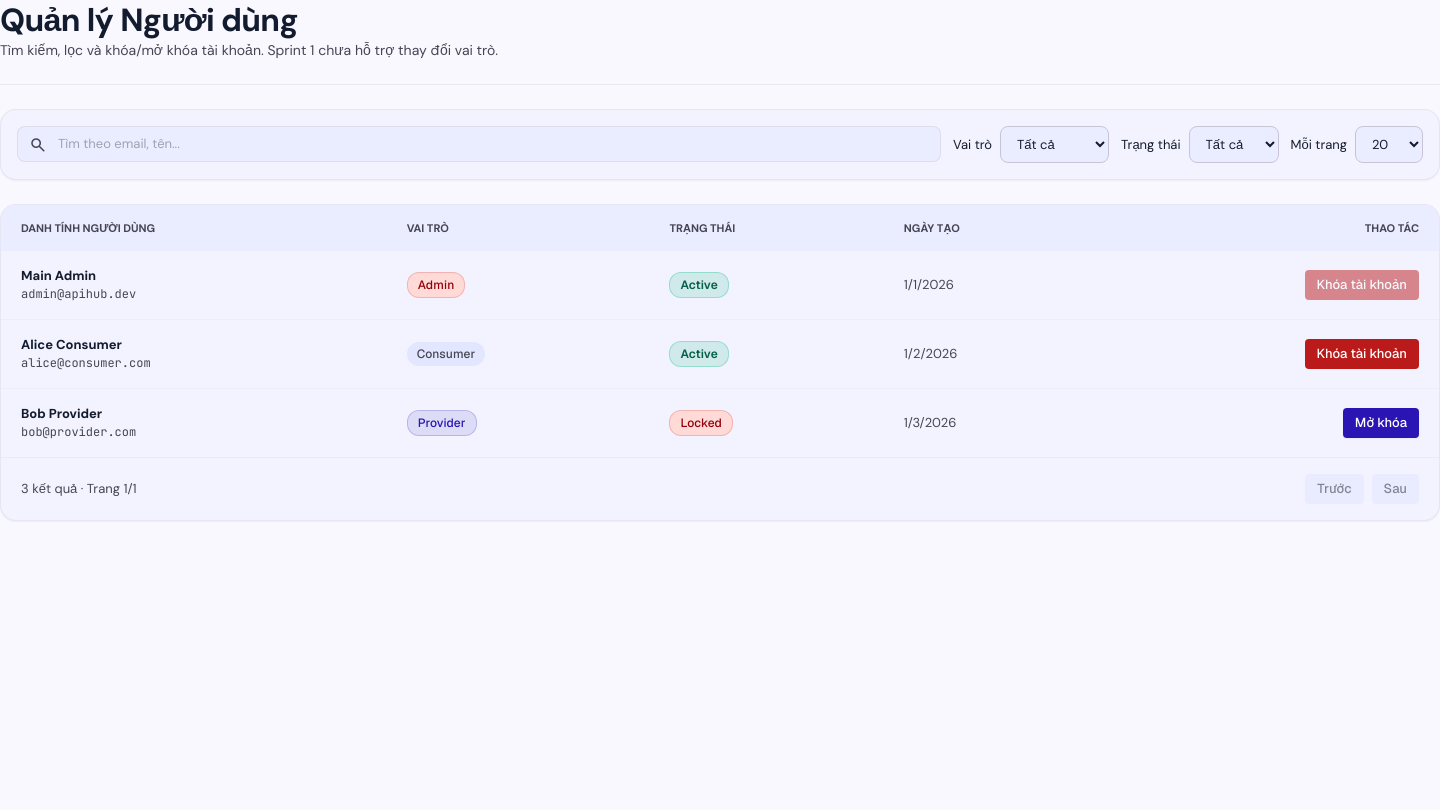
Scenario: UserManagementPage unit tests › admin PATCH lỗi hiển thị thông báo lỗi trung thực và không báo thành công
Check: the text "Alice Consumer" is shown, box [21,336,122,353]
Click the button "Khóa tài khoản" in the row of "Alice Consumer" at coordinates (1362, 354), box [1304,339,1419,369]
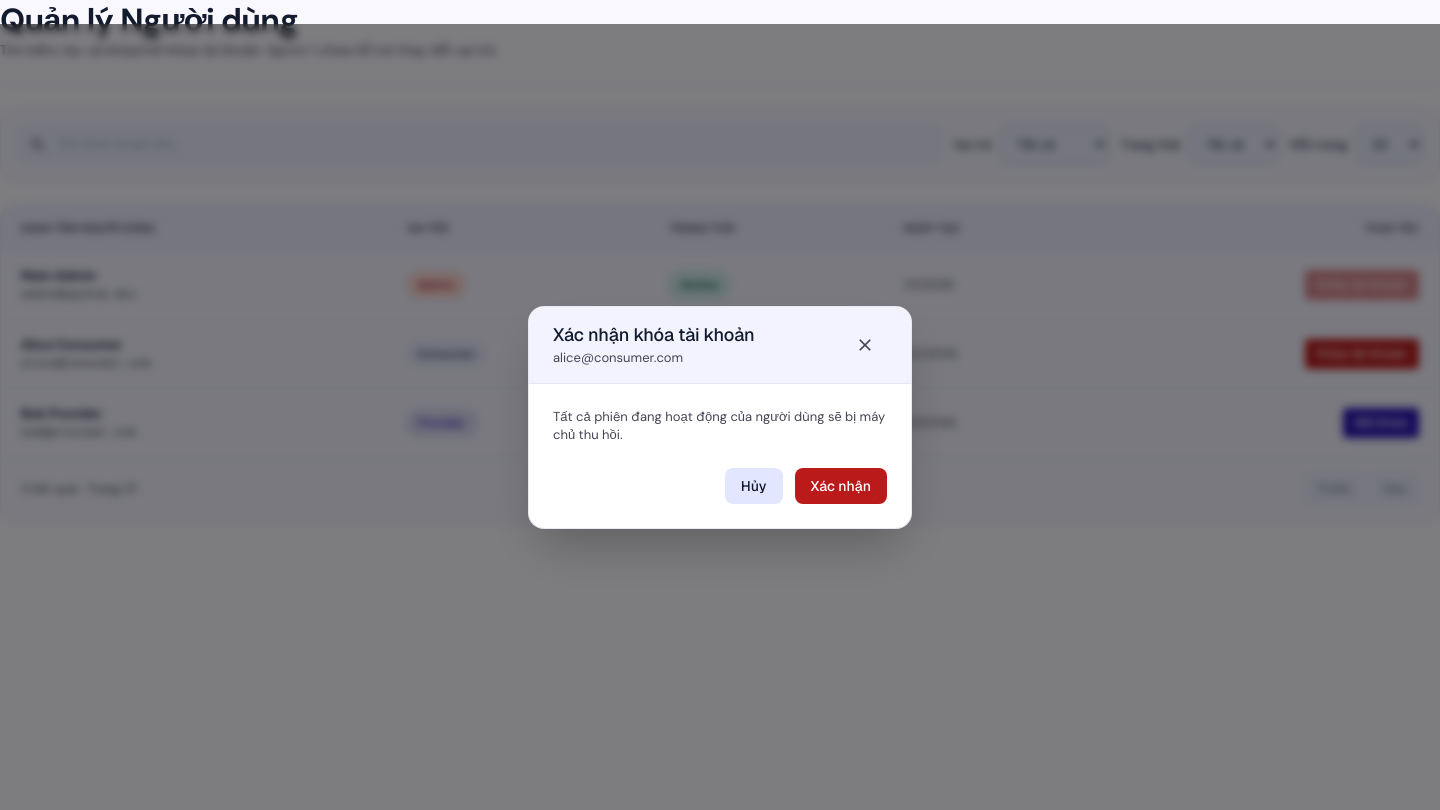
Check: the heading "Xác nhận khóa tài khoản" is shown, box [553,322,755,346]
Click the button "Xác nhận" at coordinates (841, 486), box [795,468,887,504]
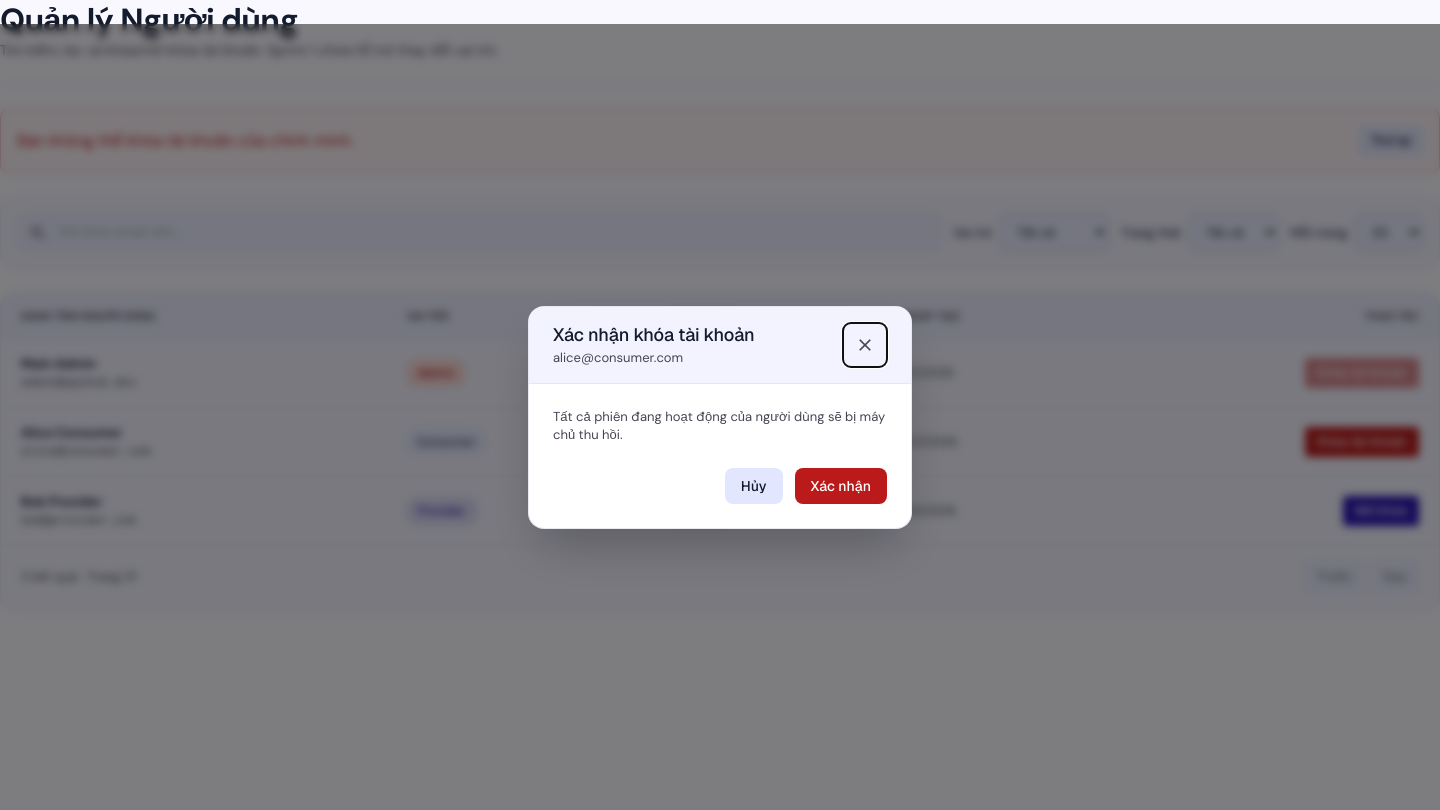
Check: the message "Bạn không thể khóa tài khoản của chính mình. Thử lại" is shown, box [0,109,1439,173]
Check: the text "Bạn không thể khóa tài khoản của chính mình." is shown, box [17,129,354,153]
